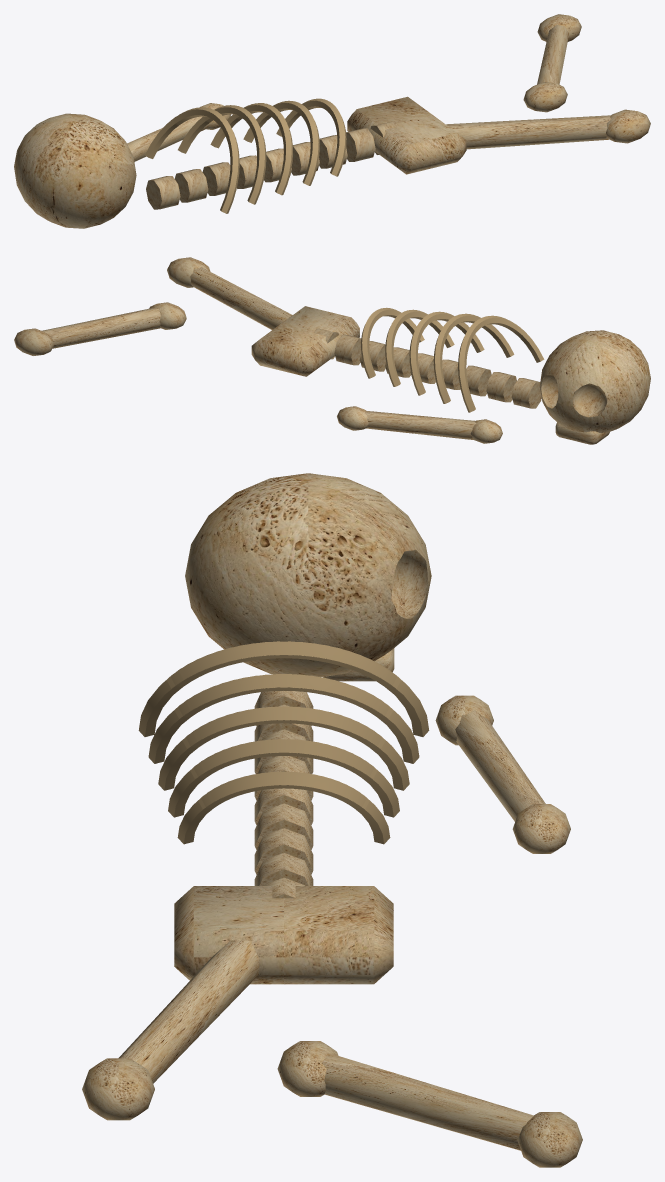
Rendered from incomplete-skeleton-v01-photo.glb.
The picture shows the model from 3 angles, top to bottom: view 1: azimuth 30°, elevation 25°; view 2: azimuth 150°, elevation 25°; view 3: azimuth 270°, elevation 25°; orthographic projection. The views are drawn at different scales.
Visible parts, largest first — view 1: incomplete-skeleton; view 2: incomplete-skeleton; view 3: incomplete-skeleton.
Boxes of the visible parts, x1=… form: incomplete-skeleton: x1=14, y1=14, x2=650, y2=228; incomplete-skeleton: x1=14, y1=257, x2=650, y2=444; incomplete-skeleton: x1=82, y1=473, x2=582, y2=1167.
Size of the model in its own units: 2.68 by 0.429 by 1.03.
1 material, 1 textured.
